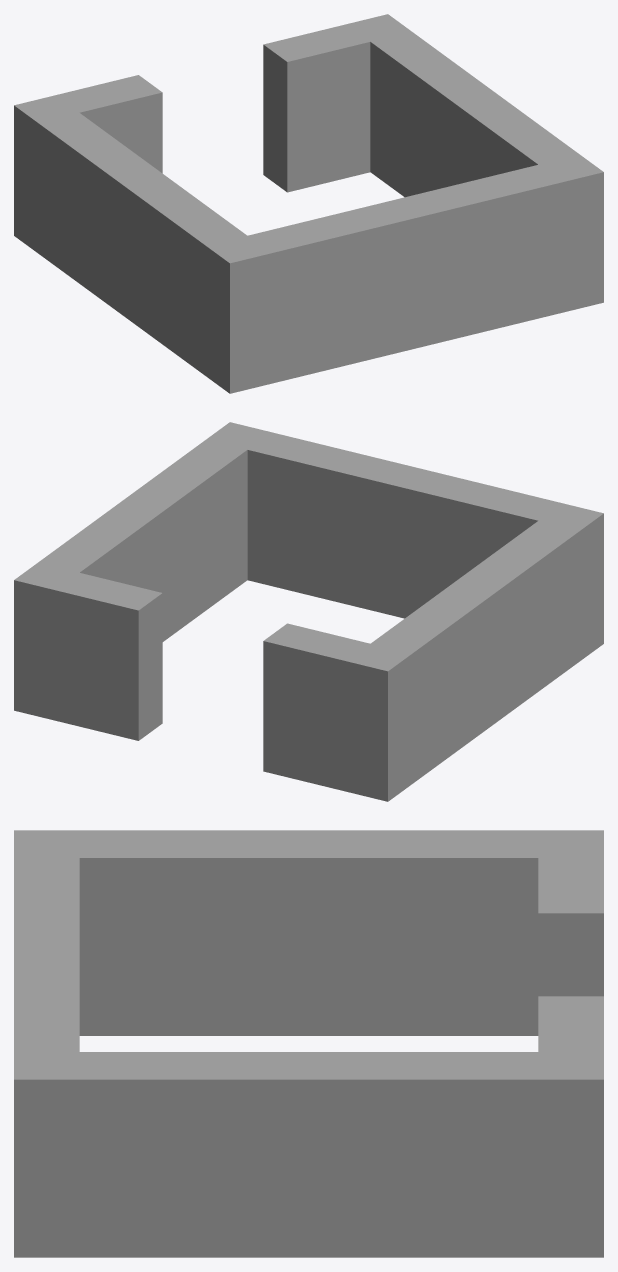
The model's file is 1door.obj.
3 views of the same model, one above another, from view 1: azimuth 30°, elevation 25°; view 2: azimuth 150°, elevation 25°; view 3: azimuth 270°, elevation 25° (orthographic). The views are drawn at different scales.
Size of the model in its own units: 0.9 by 0.3 by 0.9.
Materials: 1 (1 with a texture image).
